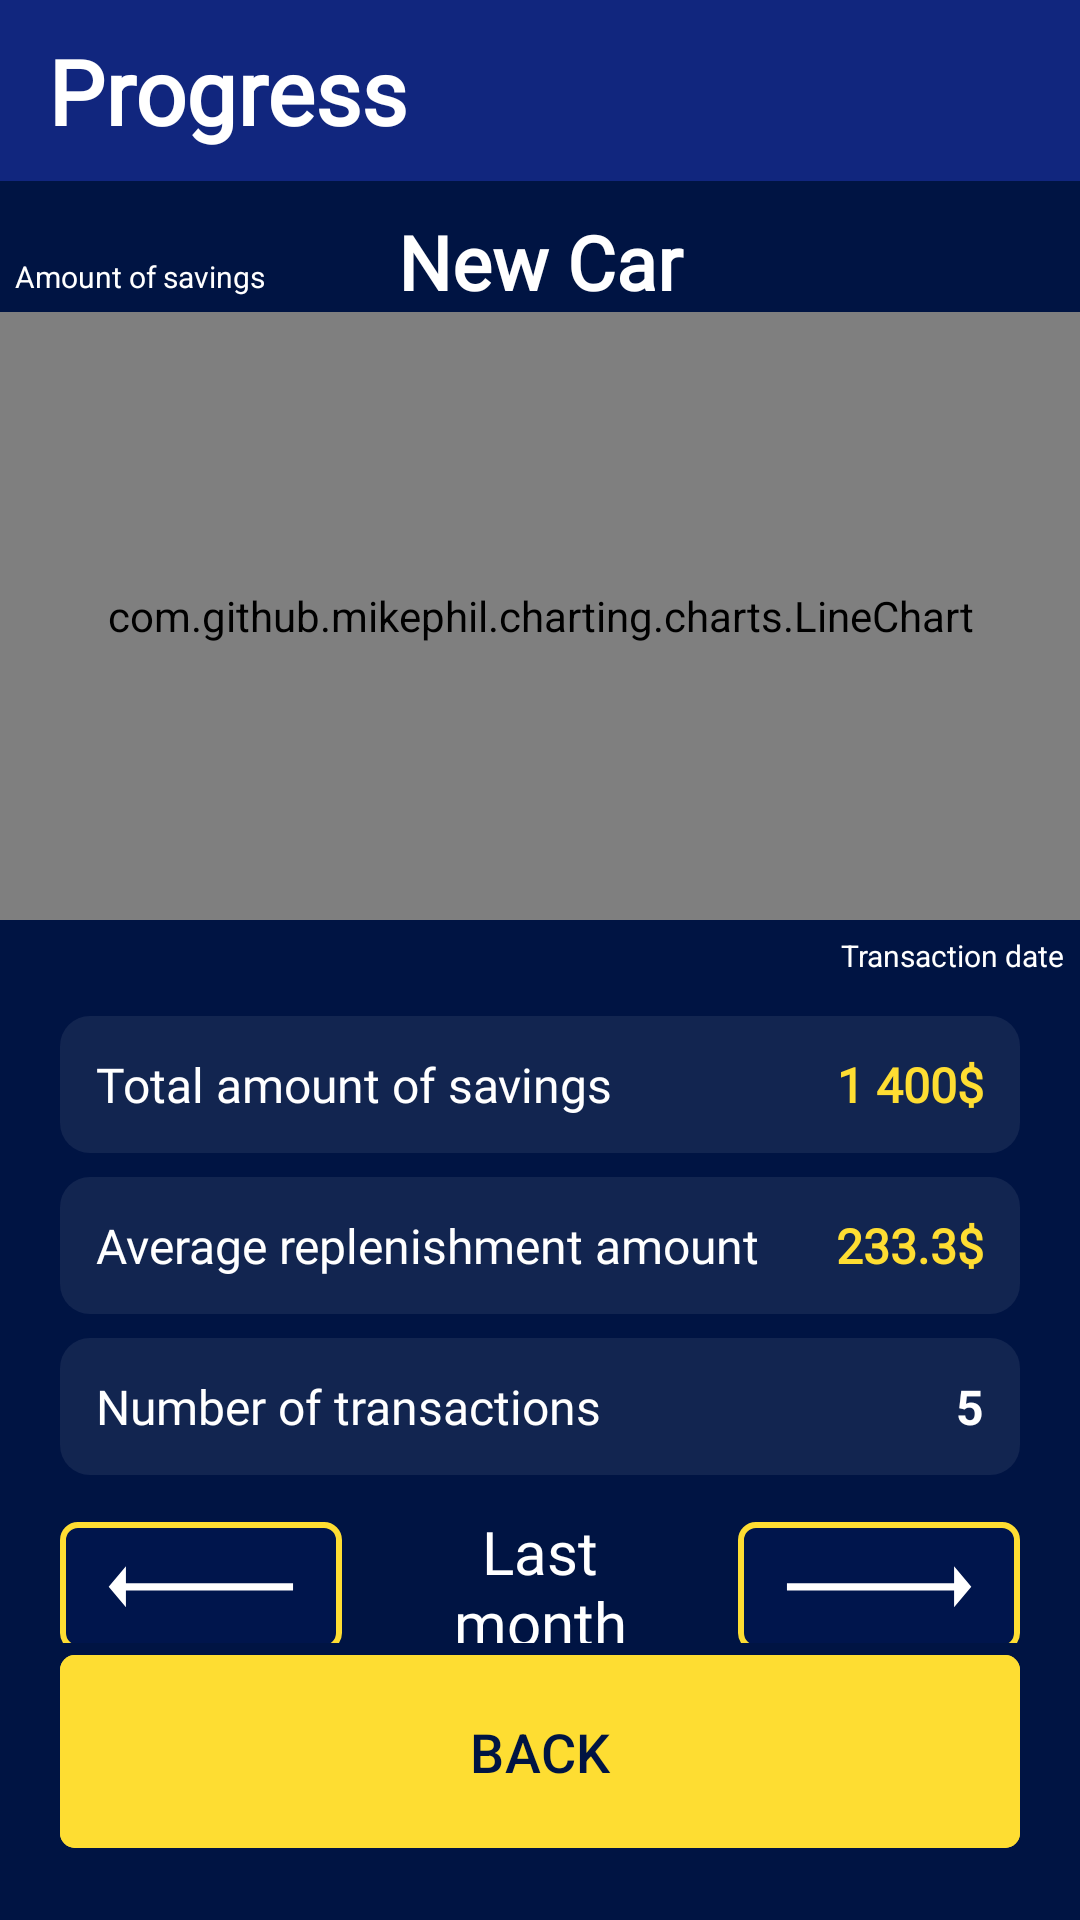

Icons on this 1080 × 1920 Android screen, each with the point to tap as [x,y]:
arrow left: [201,1582]
arrow right: [879,1582]
